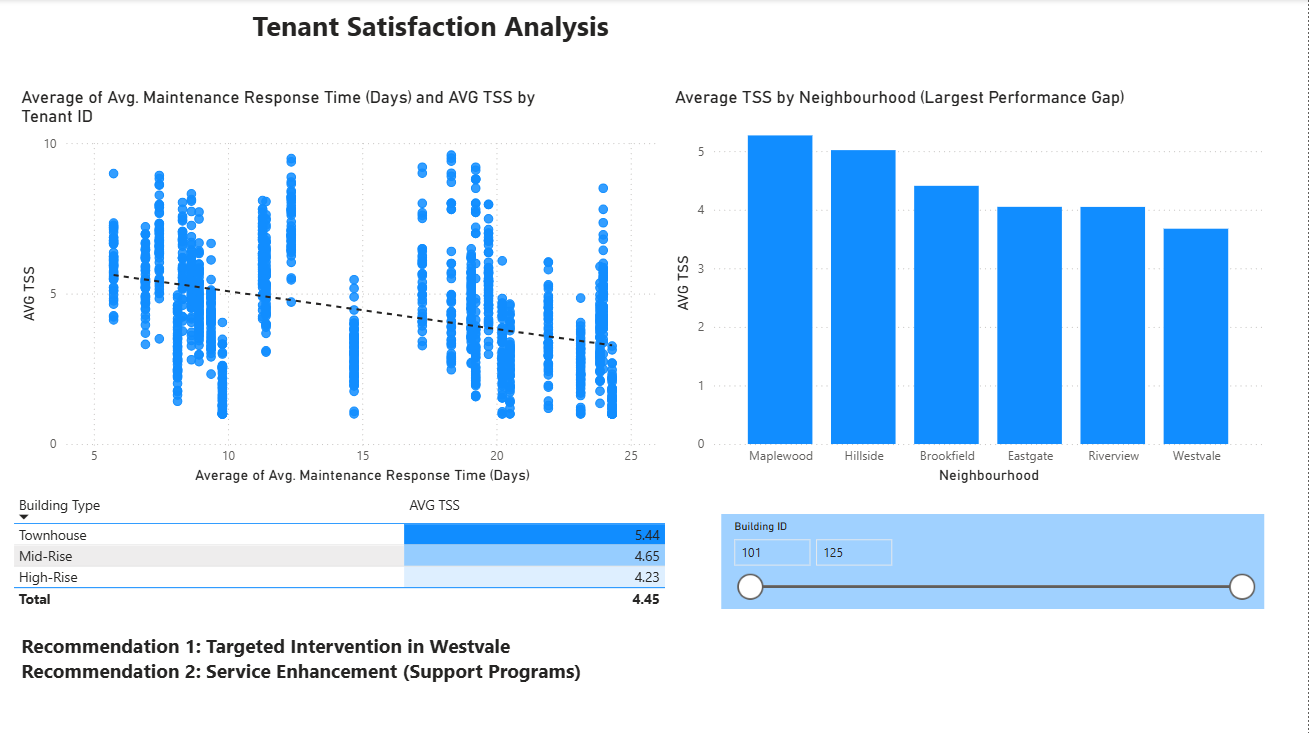

The dashboard page shown, as its layout file describes it:
{"tool":"powerbi","page":{"name":"Tenant Satisfaction Analysis","canvas":[1280,720],"ordinal":0},"visuals":[{"type":"scatterChart","title":"Average of Avg. Maintenance Response Time (Days) and AVG TSS by Tenant ID","fields":{"X":["Avg(Merge1.Avg. Maintenance Response Time (Days))"],"Y":["Merge1.AVG TSS"],"Category":["Merge1.Tenant ID"]},"box":[15.9,85.6,639.5,393.8],"z":0},{"type":"clusteredColumnChart","title":"Average TSS by Neighbourhood (Largest Performance Gap)","fields":{"Category":["Merge1.Neighbourhood"],"Y":["Merge1.AVG TSS"]},"box":[655.4,85.6,585.7,393.8],"z":1000},{"type":"tableEx","fields":{"Values":["Merge1.Building Type","Merge1.AVG TSS"]},"box":[7.3,479.4,648.1,139.4],"z":2000},{"type":"slicer","fields":{"Values":["Merge1.Building ID"]},"box":[705.6,503.8,530.7,91.7],"z":3000},{"type":"textbox","box":[242.1,2.4,463.5,48.9],"z":4000},{"type":"textbox","box":[15.9,615.1,639.5,69.7],"z":5000}]}

Visuals, with their boxes in screenshot pixels (x1, y1, x2, y2), scaled from the page's 1280x720 canvas onto the 1309x733 screenshot:
"Average of Avg. Maintenance Response Time (Days) and AVG TSS by Tenant ID" scatterChart: locate(16, 87, 670, 488)
"Average TSS by Neighbourhood (Largest Performance Gap)" clusteredColumnChart: locate(670, 87, 1269, 488)
tableEx - Merge1.Building Type x Merge1.AVG TSS: locate(7, 488, 670, 630)
slicer - Merge1.Building ID: locate(722, 513, 1264, 606)
textbox: locate(248, 2, 722, 52)
textbox: locate(16, 626, 670, 697)
